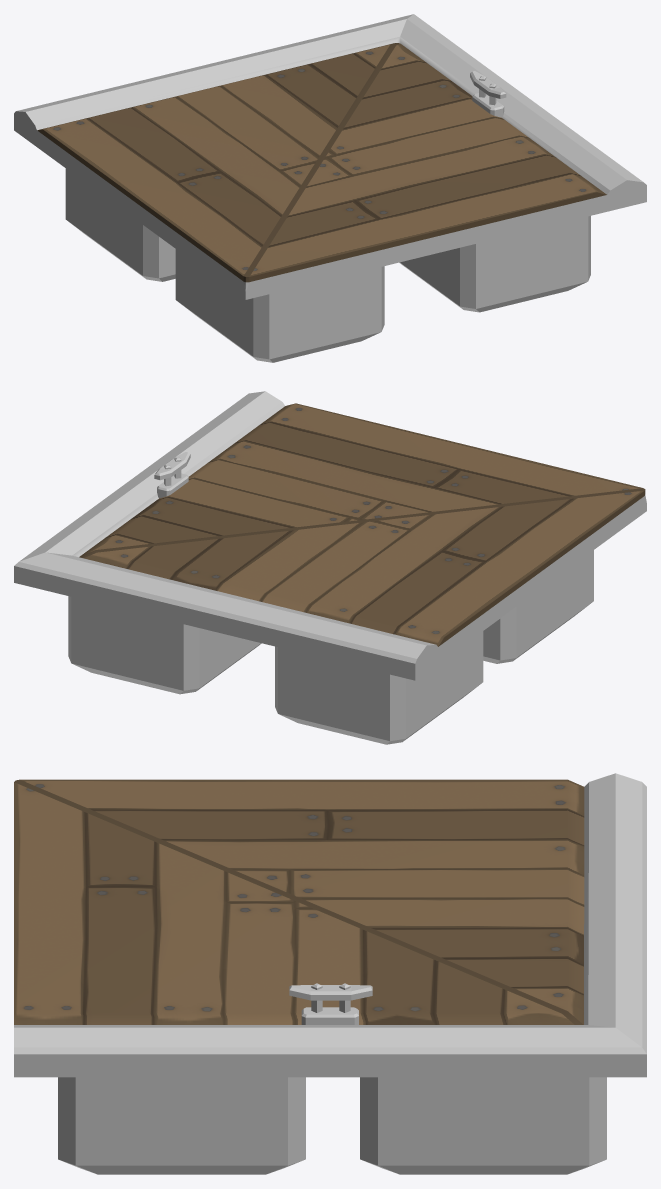
The model's file is SM_Bld_Dock_Platform_Corner_02.fbx.
The picture shows the model from 3 angles, top to bottom: view 1: azimuth 30°, elevation 25°; view 2: azimuth 150°, elevation 25°; view 3: azimuth 270°, elevation 25°; orthographic projection. The views are drawn at different scales.
Parts seen in each view (by area): view 1: SM_Bld_Dock_Platform_Corner_02; view 2: SM_Bld_Dock_Platform_Corner_02; view 3: SM_Bld_Dock_Platform_Corner_02.
Part boxes in pixels (bbox=[...]): SM_Bld_Dock_Platform_Corner_02: bbox=[14, 14, 646, 362]; SM_Bld_Dock_Platform_Corner_02: bbox=[14, 391, 646, 744]; SM_Bld_Dock_Platform_Corner_02: bbox=[14, 773, 646, 1174].
Bounding box in the file's own units: 250 × 83.51 × 250.
